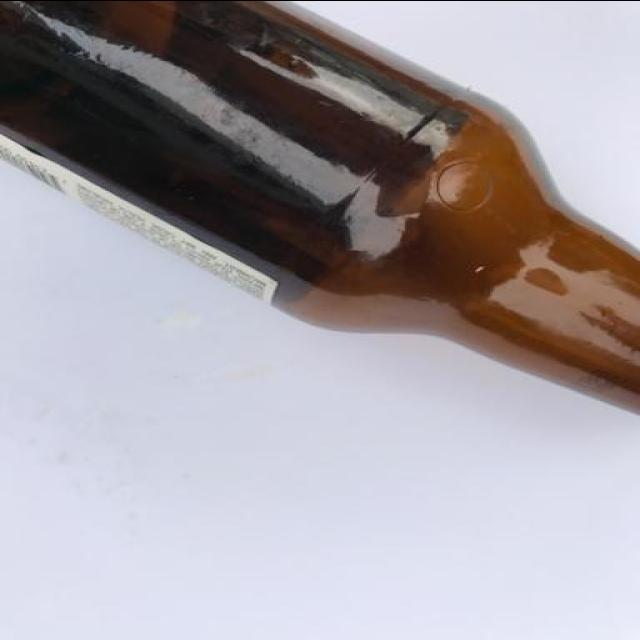Glass Bottle: (1, 1, 636, 418)
